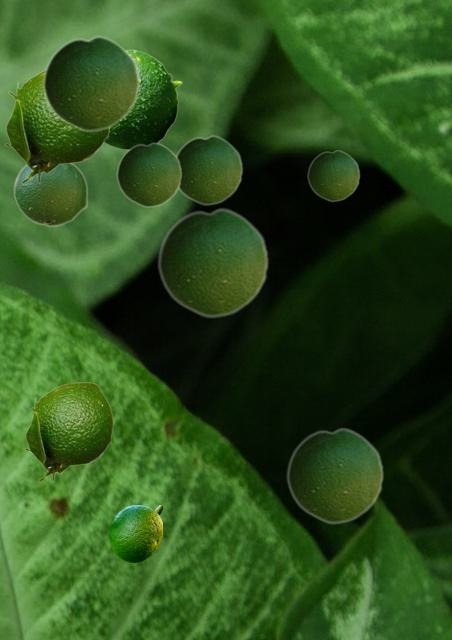dalandan: (157, 206, 268, 318), (4, 70, 110, 183), (42, 35, 139, 132), (286, 427, 383, 524), (24, 382, 112, 481), (104, 49, 181, 150), (176, 134, 242, 205), (13, 164, 87, 226), (116, 141, 181, 207), (109, 505, 161, 561), (307, 149, 359, 201)
